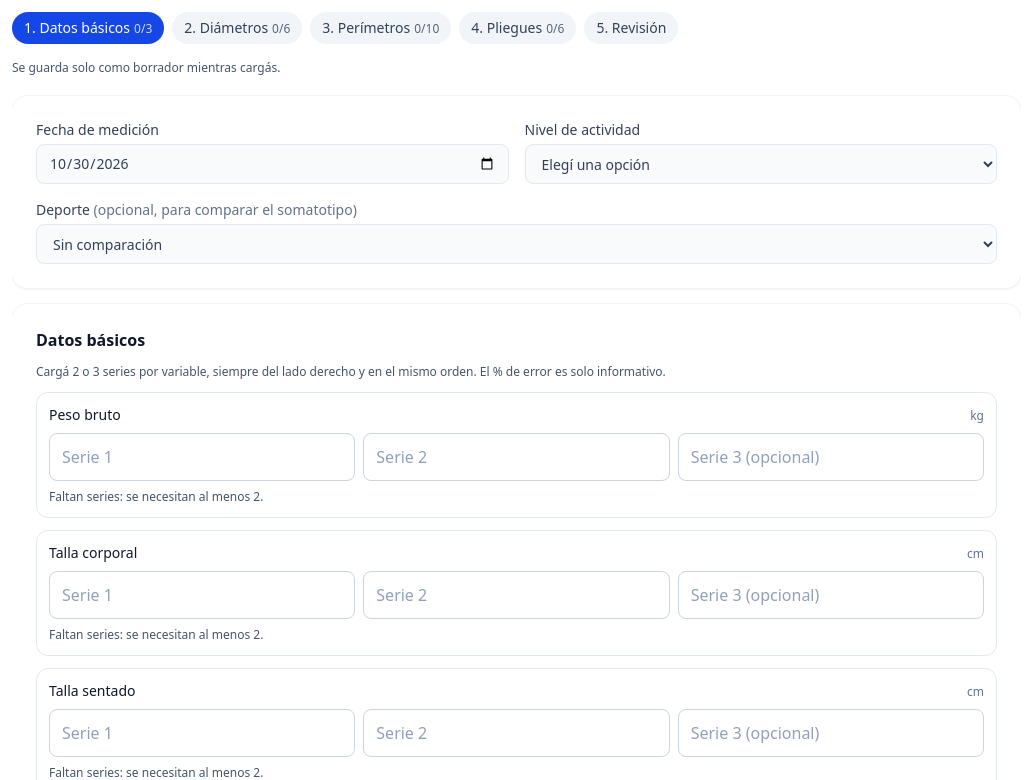
it: MedicionWizard — carga › calcula mediana, desvío y % de error en vivo con coma decimal (informativo)
expect the text "Faltan series: se necesitan al menos 2." below "Peso bruto" is shown: met, box [49, 488, 263, 505]
Type "53,1" into the field named "Peso bruto, serie 1" at [202, 457], box [49, 433, 355, 481]
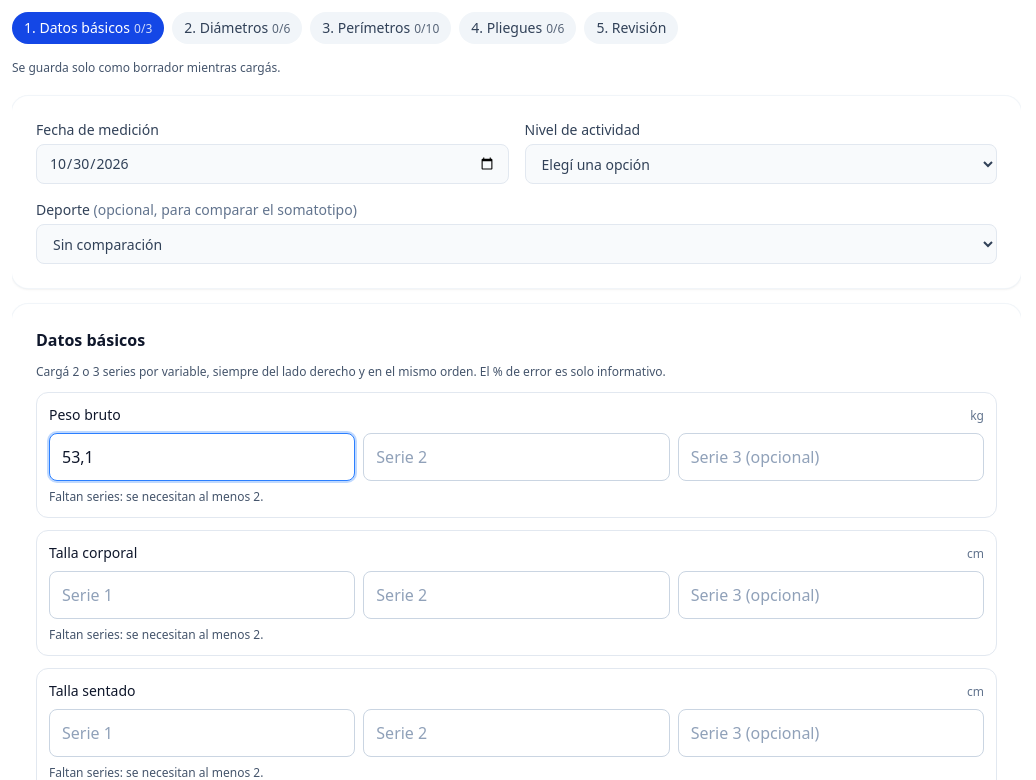
Type "53" into the field named "Peso bruto, serie 2" at [516, 457], box [363, 433, 670, 481]
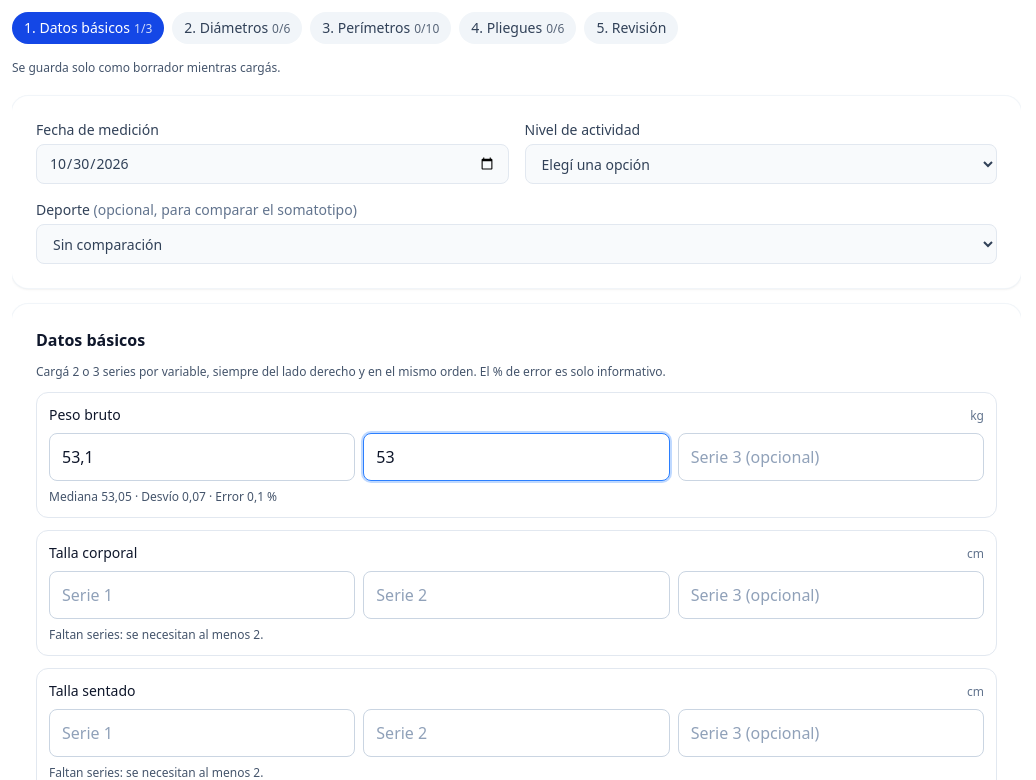
expect the text "Mediana 53,05 · Desvío 0,07 · Error 0,1 %" is shown: met, box [49, 488, 277, 505]
